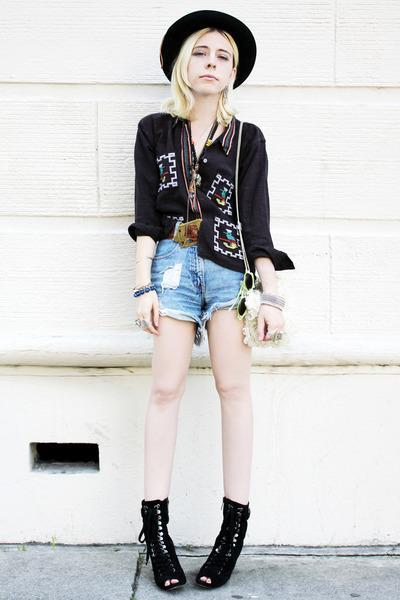Shorts: (141, 237, 257, 324)
long sleeve shirt: (124, 109, 277, 266)
